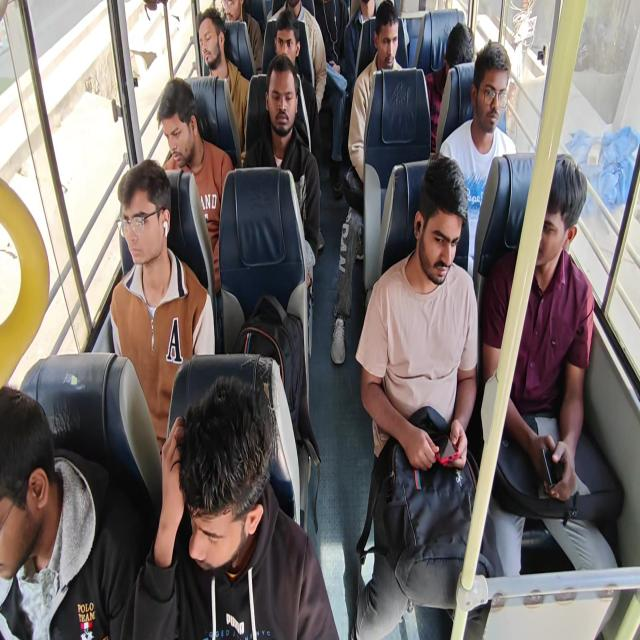person: (0, 391, 85, 640), (183, 344, 264, 564), (110, 160, 196, 350), (406, 174, 472, 352), (149, 79, 227, 182), (523, 142, 570, 306), (480, 50, 523, 162), (443, 15, 493, 99), (258, 60, 302, 138), (374, 3, 409, 81), (314, 0, 354, 67), (188, 8, 222, 76), (272, 20, 302, 74), (356, 0, 380, 34), (282, 0, 304, 33), (227, 0, 252, 29)
